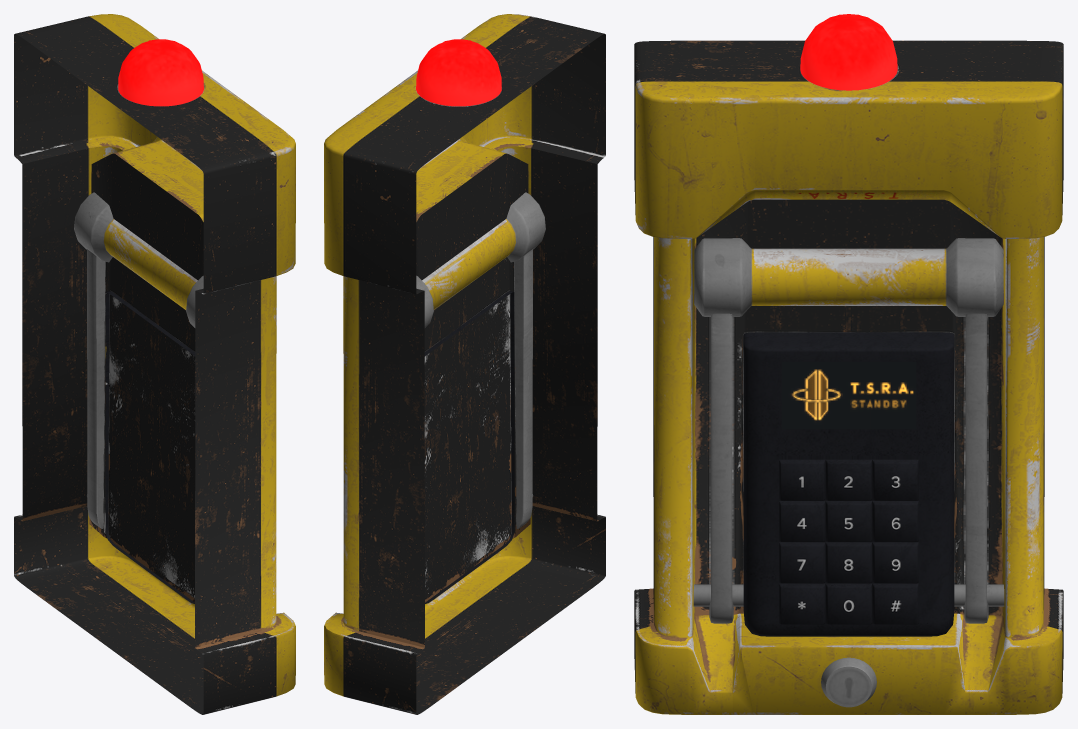
The model's file is tsra_emergency_panel.glb.
3 renders of one model, left to right at view 1: azimuth 30°, elevation 25°; view 2: azimuth 150°, elevation 25°; view 3: azimuth 270°, elevation 25°, orthographic. The views are drawn at different scales.
Parts seen in each view (by area): view 1: EmergencyPanel, EmergencyPanelLever; view 2: EmergencyPanel, EmergencyPanelLever; view 3: EmergencyPanel, EmergencyPanelLever.
Part boxes in pixels (x1,y1,x2,y2): EmergencyPanel: [14, 14, 295, 714]; EmergencyPanelLever: [74, 192, 203, 528]; EmergencyPanel: [324, 14, 605, 714]; EmergencyPanelLever: [416, 192, 545, 528]; EmergencyPanel: [634, 14, 1063, 714]; EmergencyPanelLever: [693, 238, 1004, 623].
Size of the model in its own units: 0.0758 by 0.3782 by 0.22.
Materials: 1 (1 with a texture image).
